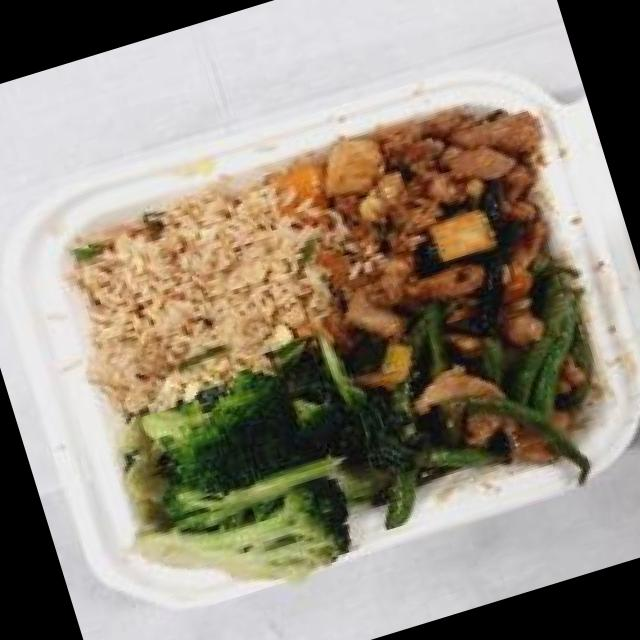Fried Rice: (33, 165, 329, 422)
Kung Pao Chicken: (264, 71, 584, 343)
String Bean Chicken Breast: (340, 243, 640, 512)
Super Greens: (100, 330, 432, 614)
